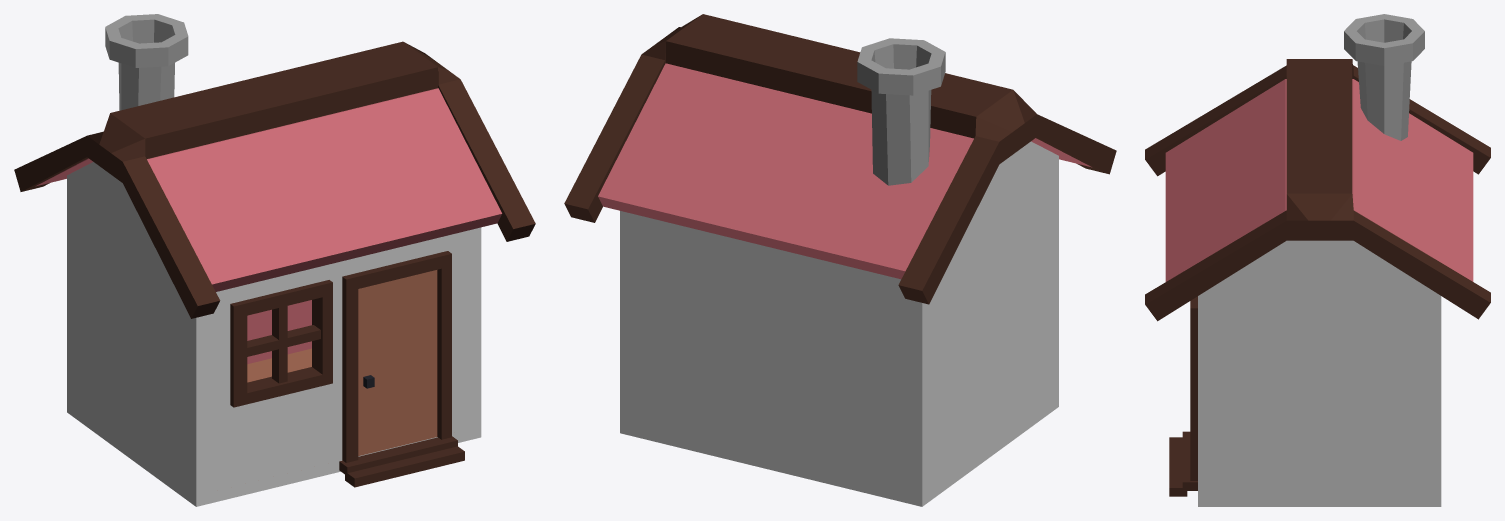
The model's file is LD_House.fbx.
The picture shows the model from 3 angles, left to right: view 1: azimuth 30°, elevation 25°; view 2: azimuth 150°, elevation 25°; view 3: azimuth 270°, elevation 25°; orthographic projection. The views are drawn at different scales.
Parts seen in each view (by area): view 1: Roof, House, House front wall, roof frame, Door, Chimney, Stair, window frame; view 2: House, Roof, roof frame, Chimney; view 3: House, Roof, roof frame, Chimney, House front wall, Stair.
Part boxes in pixels (bbox=[...]): Roof: bbox=[35, 88, 502, 291]; House: bbox=[67, 162, 481, 506]; House front wall: bbox=[214, 231, 463, 491]; roof frame: bbox=[14, 41, 535, 318]; Door: bbox=[358, 270, 437, 455]; Chimney: bbox=[105, 14, 188, 110]; Stair: bbox=[339, 436, 464, 487]; window frame: bbox=[247, 306, 320, 383]; House: bbox=[620, 141, 1058, 506]; Roof: bbox=[598, 63, 1091, 279]; roof frame: bbox=[564, 14, 1116, 304]; Chimney: bbox=[857, 38, 945, 185]; House: bbox=[1198, 240, 1441, 506]; Roof: bbox=[1165, 79, 1473, 281]; roof frame: bbox=[1145, 59, 1490, 321]; Chimney: bbox=[1344, 14, 1424, 140]; House front wall: bbox=[1190, 296, 1197, 480]; Stair: bbox=[1169, 431, 1197, 496].
Bounding box in the file's own units: 649 × 724 × 610.
